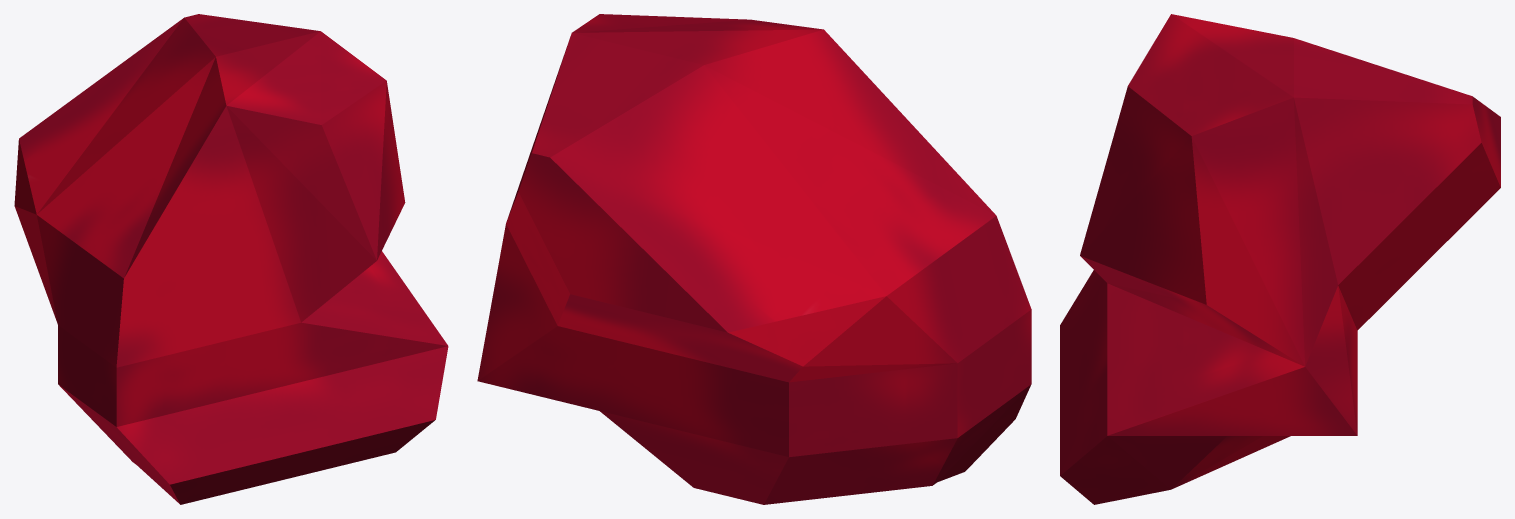
File: gib2.FBX
3 renders of one model, left to right at view 1: azimuth 30°, elevation 25°; view 2: azimuth 150°, elevation 25°; view 3: azimuth 270°, elevation 25°, orthographic. The views are drawn at different scales.
Parts seen in each view (by area): view 1: Box002; view 2: Box002; view 3: Box002.
Boxes of the visible parts, left/top/right/bottom form: Box002: left=14, top=14, right=448, bottom=504; Box002: left=477, top=14, right=1031, bottom=504; Box002: left=1060, top=14, right=1500, bottom=504.
Size of the model in its own units: 15.64 by 16.01 by 15.46.
1 material, 1 textured.
